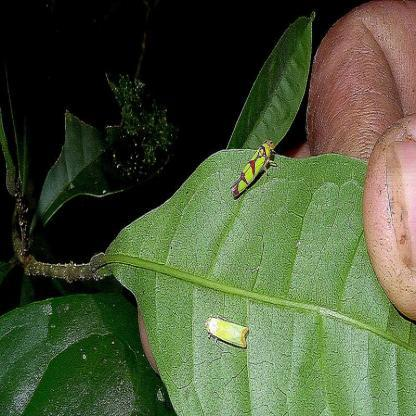green-leafhopper: (232, 140, 276, 200), (204, 314, 249, 350)
